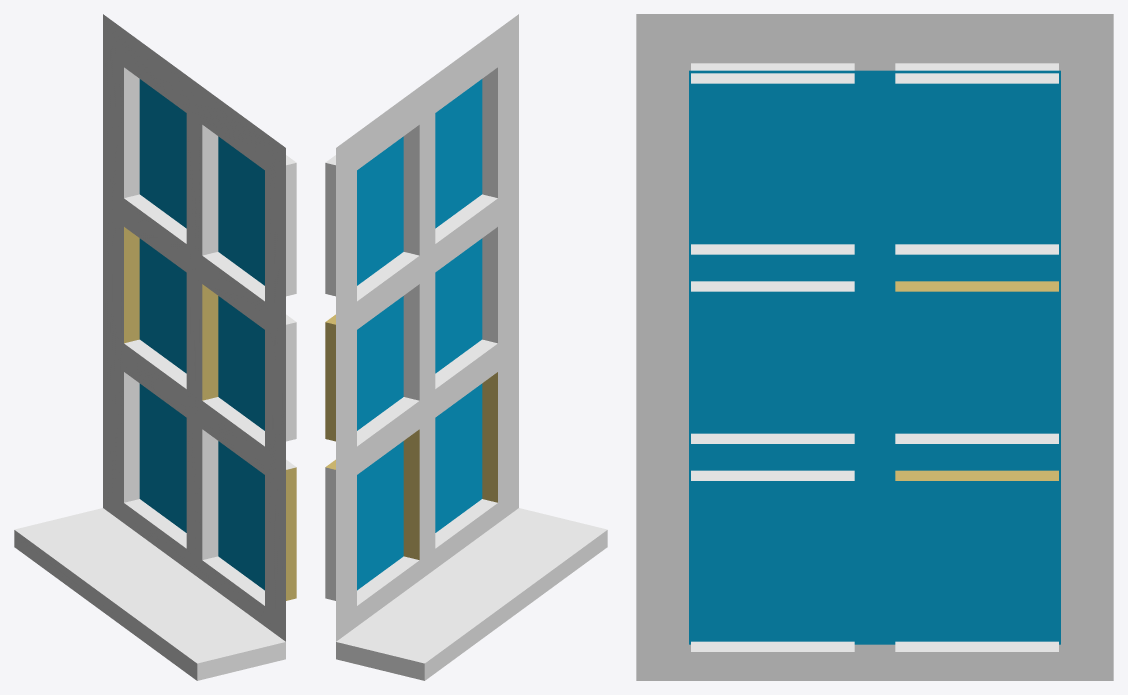
The model's file is Window_01_Mesh.fbx.
The picture shows the model from 3 angles, left to right: view 1: azimuth 30°, elevation 25°; view 2: azimuth 150°, elevation 25°; view 3: azimuth 270°, elevation 25°; orthographic projection. The views are drawn at different scales.
Parts seen in each view (by area): view 1: Window_01; view 2: Window_01; view 3: Window_01.
Boxes of the visible parts, x1,y1,x2,y2 form: Window_01: (14, 14, 296, 680); Window_01: (325, 14, 607, 680); Window_01: (636, 14, 1113, 680).
Bounding box in the file's own units: 66.56 × 270 × 175.
